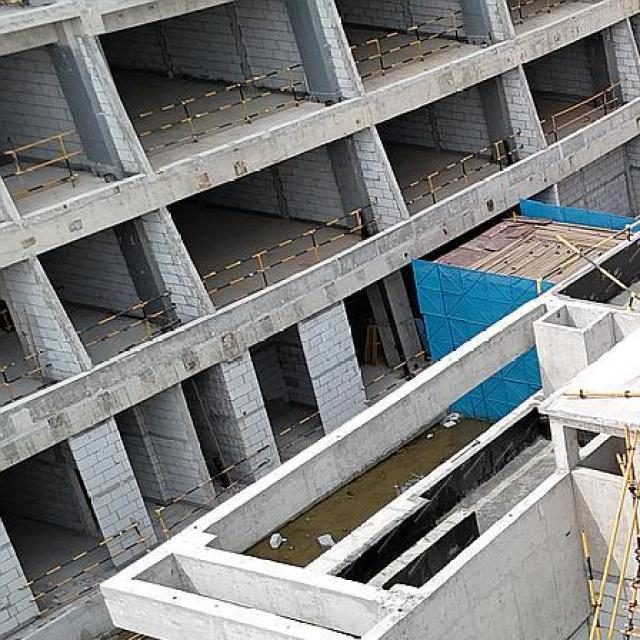edge_guardrail: (203, 202, 377, 297), (130, 62, 309, 154), (23, 522, 151, 618), (154, 443, 270, 541), (401, 130, 524, 209), (535, 218, 640, 308), (350, 7, 470, 80), (75, 291, 181, 366), (1, 128, 82, 203), (541, 81, 626, 146), (362, 349, 432, 404), (1, 347, 59, 409), (273, 410, 324, 454), (509, 0, 567, 26)
